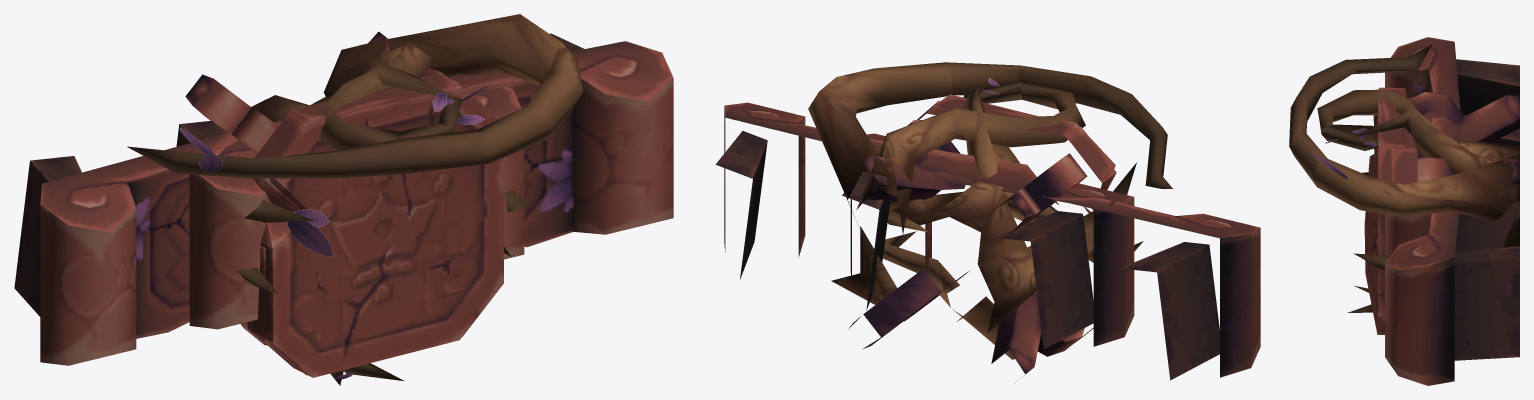
3 views of the same model, side by side, from view 1: azimuth 30°, elevation 25°; view 2: azimuth 150°, elevation 25°; view 3: azimuth 270°, elevation 25° (orthographic). The views are drawn at different scales.
Parts seen in each view (by area): view 1: furniture.model_base-MeshSets[bench].Mesh[1], furniture.model_base-MeshSets[tabel_restored].Mesh[1], furniture.model_base-MeshSets[bench].Mesh[0], furniture.model_base-MeshSets[table_charred].Mesh[0], furniture.model_base-MeshSets[chair].Mesh[0], furniture.model_base-MeshSets[tabel_restored].Mesh[0]; view 2: furniture.model_base-MeshSets[bench].Mesh[0], furniture.model_base-MeshSets[bench].Mesh[1], furniture.model_base-MeshSets[chair].Mesh[0], furniture.model_base-MeshSets[tabel_restored].Mesh[0], furniture.model_base-MeshSets[table_charred].Mesh[0], furniture.model_base-MeshSets[tabel_restored].Mesh[1]; view 3: furniture.model_base-MeshSets[bench].Mesh[1], furniture.model_base-MeshSets[bench].Mesh[0], furniture.model_base-MeshSets[table_charred].Mesh[0], furniture.model_base-MeshSets[chair].Mesh[0], furniture.model_base-MeshSets[tabel_restored].Mesh[1], furniture.model_base-MeshSets[tabel_restored].Mesh[0].
Part boxes in pixels (x1,y1,x2,y2): furniture.model_base-MeshSets[bench].Mesh[1]: [14, 33, 673, 365]; furniture.model_base-MeshSets[tabel_restored].Mesh[1]: [253, 72, 480, 379]; furniture.model_base-MeshSets[bench].Mesh[0]: [127, 14, 583, 178]; furniture.model_base-MeshSets[table_charred].Mesh[0]: [185, 31, 503, 375]; furniture.model_base-MeshSets[chair].Mesh[0]: [176, 87, 524, 329]; furniture.model_base-MeshSets[tabel_restored].Mesh[0]: [237, 62, 528, 385]; furniture.model_base-MeshSets[bench].Mesh[0]: [808, 62, 1172, 304]; furniture.model_base-MeshSets[bench].Mesh[1]: [715, 78, 1260, 380]; furniture.model_base-MeshSets[chair].Mesh[0]: [842, 133, 1134, 349]; furniture.model_base-MeshSets[tabel_restored].Mesh[0]: [874, 86, 1143, 359]; furniture.model_base-MeshSets[table_charred].Mesh[0]: [848, 94, 1116, 383]; furniture.model_base-MeshSets[tabel_restored].Mesh[1]: [917, 88, 1115, 210]; furniture.model_base-MeshSets[bench].Mesh[1]: [1313, 37, 1519, 385]; furniture.model_base-MeshSets[bench].Mesh[0]: [1289, 44, 1519, 247]; furniture.model_base-MeshSets[table_charred].Mesh[0]: [1378, 88, 1519, 334]; furniture.model_base-MeshSets[chair].Mesh[0]: [1385, 92, 1519, 257]; furniture.model_base-MeshSets[tabel_restored].Mesh[1]: [1353, 87, 1417, 334]; furniture.model_base-MeshSets[tabel_restored].Mesh[0]: [1332, 108, 1519, 312].
Bounding box in the file's own units: 2.6 × 1.25 × 1.11.
Materials: 2 (2 with a texture image).
